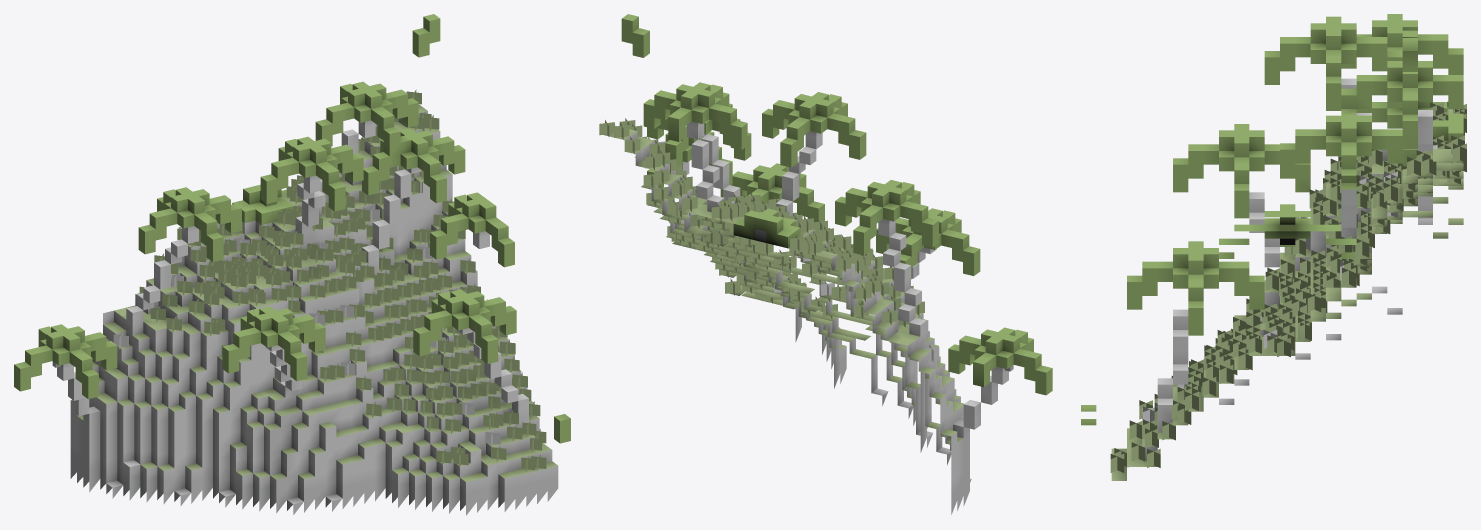
3 renders of one model, left to right at view 1: azimuth 30°, elevation 25°; view 2: azimuth 150°, elevation 25°; view 3: azimuth 270°, elevation 25°, orthographic. The views are drawn at different scales.
Visible parts, largest first — view 1: recorte, opaco; view 2: recorte, opaco; view 3: recorte, opaco.
Part boxes in pixels (box(x1,y1,x2,y2)): recorte: box(14, 14, 570, 493); opaco: box(57, 120, 558, 515); recorte: box(599, 14, 1052, 454); opaco: box(682, 121, 1008, 514); recorte: box(1081, 14, 1466, 480); opaco: box(1157, 78, 1437, 432).
Bounding box in the file's own units: 39.2 × 35 × 25.2.
